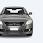car: (1, 3, 34, 35)
